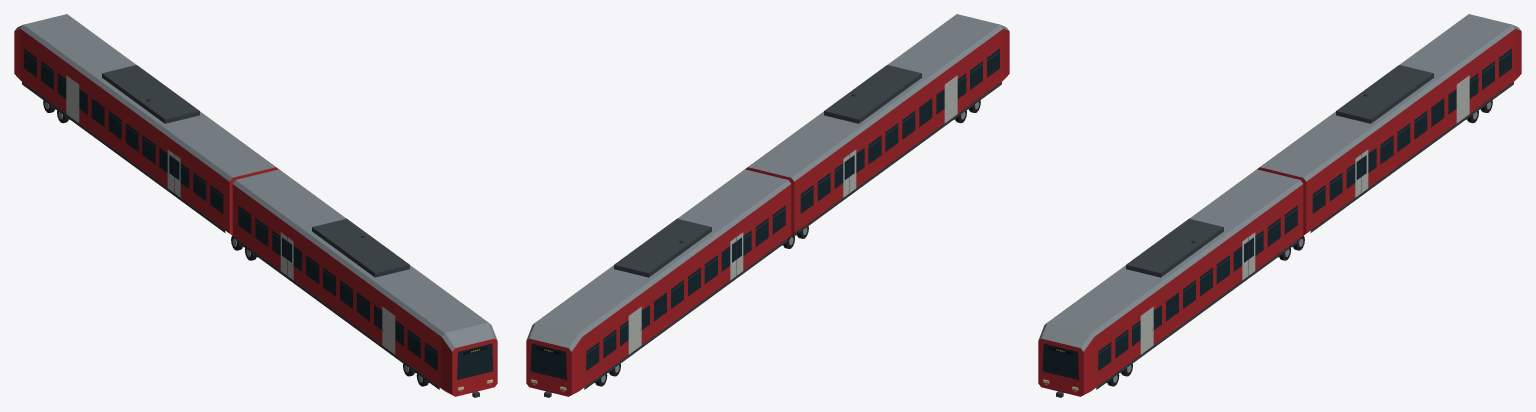
Rendered from db-lint41.glb.
3 renders of one model, left to right at view 1: azimuth 30°, elevation 25°; view 2: azimuth 150°, elevation 25°; view 3: azimuth 330°, elevation 25°, orthographic.
Parts seen in each view (by area): view 1: db-lint41.segment-01.005, db-lint41.segment-02.005; view 2: db-lint41.segment-02.005, db-lint41.segment-01.005; view 3: db-lint41.segment-01.005, db-lint41.segment-02.005.
Boxes of the visible parts, box(x1,y1,x2,y2) form: db-lint41.segment-01.005: box(231, 169, 497, 397); db-lint41.segment-02.005: box(14, 14, 278, 235); db-lint41.segment-02.005: box(526, 169, 791, 397); db-lint41.segment-01.005: box(745, 14, 1009, 248); db-lint41.segment-01.005: box(1038, 169, 1304, 397); db-lint41.segment-02.005: box(1257, 14, 1521, 235).
Size of the model in its own units: 2.8 by 4.06 by 42.34.
